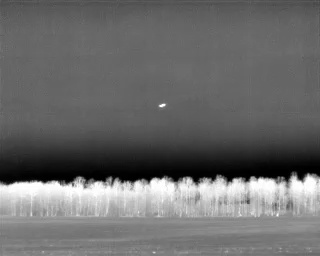DRONE: (155, 99, 170, 112)
